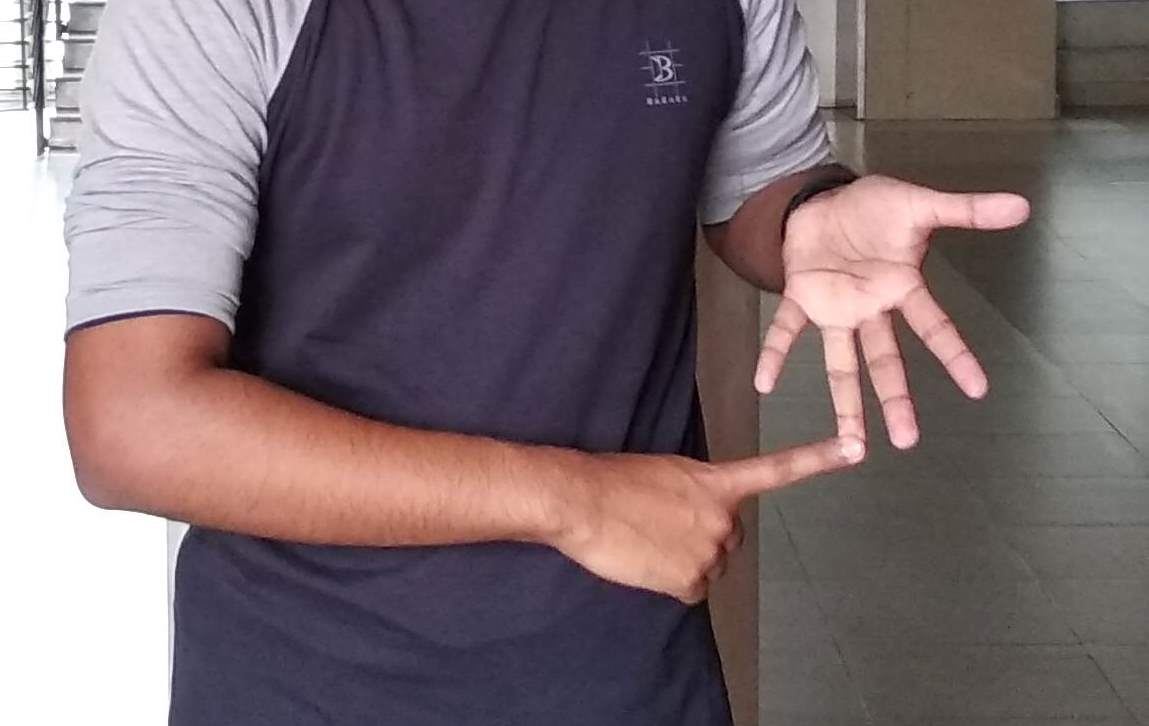e: (740, 335, 1006, 516)
